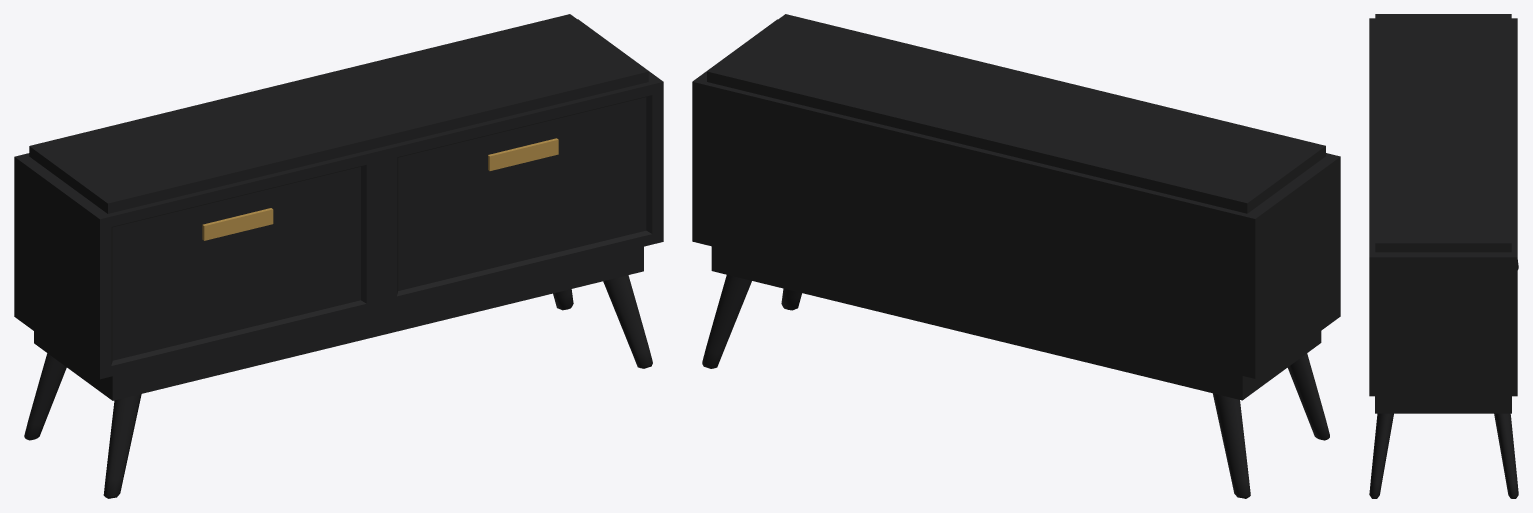
Rendered from pk_sideboard_black.glb.
3 views of the same model, side by side, from view 1: azimuth 30°, elevation 25°; view 2: azimuth 150°, elevation 25°; view 3: azimuth 270°, elevation 25° (orthographic). The views are drawn at different scales.
Parts seen in each view (by area): view 1: pk_sideboard_black; view 2: pk_sideboard_black; view 3: pk_sideboard_black.
Part boxes in pixels (x1=…): pk_sideboard_black: x1=14, y1=14, x2=663, y2=498; pk_sideboard_black: x1=692, y1=14, x2=1340, y2=498; pk_sideboard_black: x1=1369, y1=14, x2=1518, y2=498.
Bounding box in the file's own units: 1.7 × 0.85 × 0.45.
Materials: 1 (1 with a texture image).
